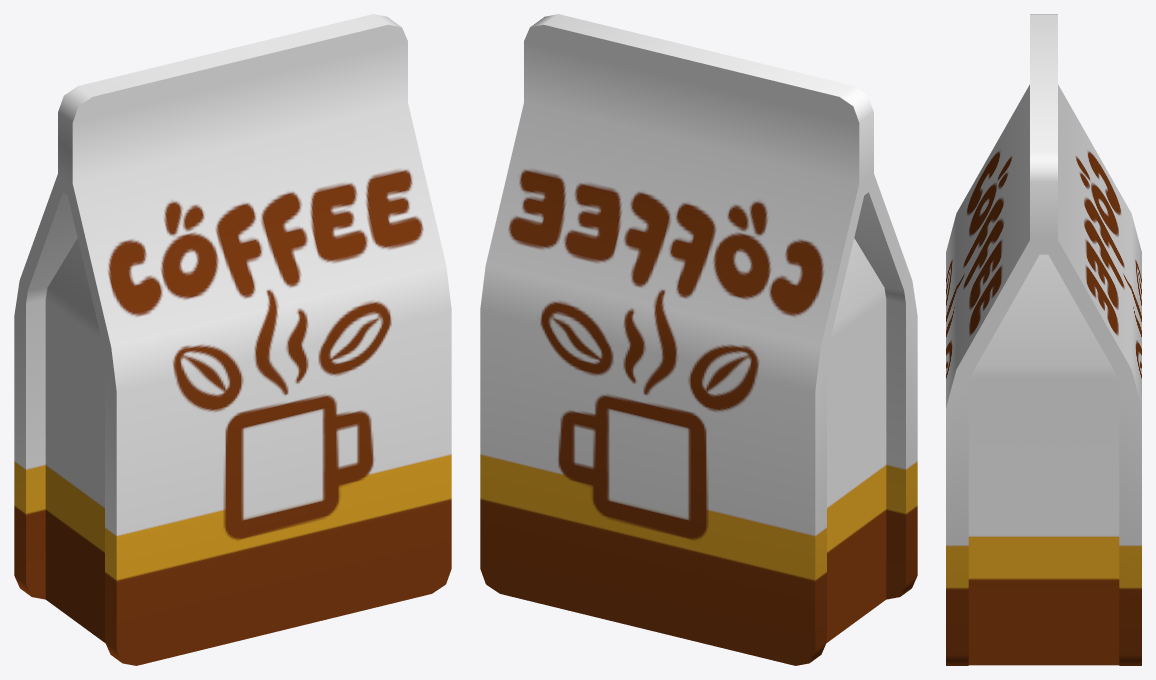
File: Packet_Coffee_01.fbx
3 renders of one model, left to right at view 1: azimuth 30°, elevation 25°; view 2: azimuth 150°, elevation 25°; view 3: azimuth 270°, elevation 25°, orthographic. The views are drawn at different scales.
Parts seen in each view (by area): view 1: Packet_Coffee_01; view 2: Packet_Coffee_01; view 3: Packet_Coffee_01.
Boxes of the visible parts, x1,y1,x2,y2 form: Packet_Coffee_01: (14, 14, 451, 665); Packet_Coffee_01: (480, 14, 917, 665); Packet_Coffee_01: (946, 14, 1141, 665).
Size of the model in its own units: 55.25 by 84.6 by 29.27.
